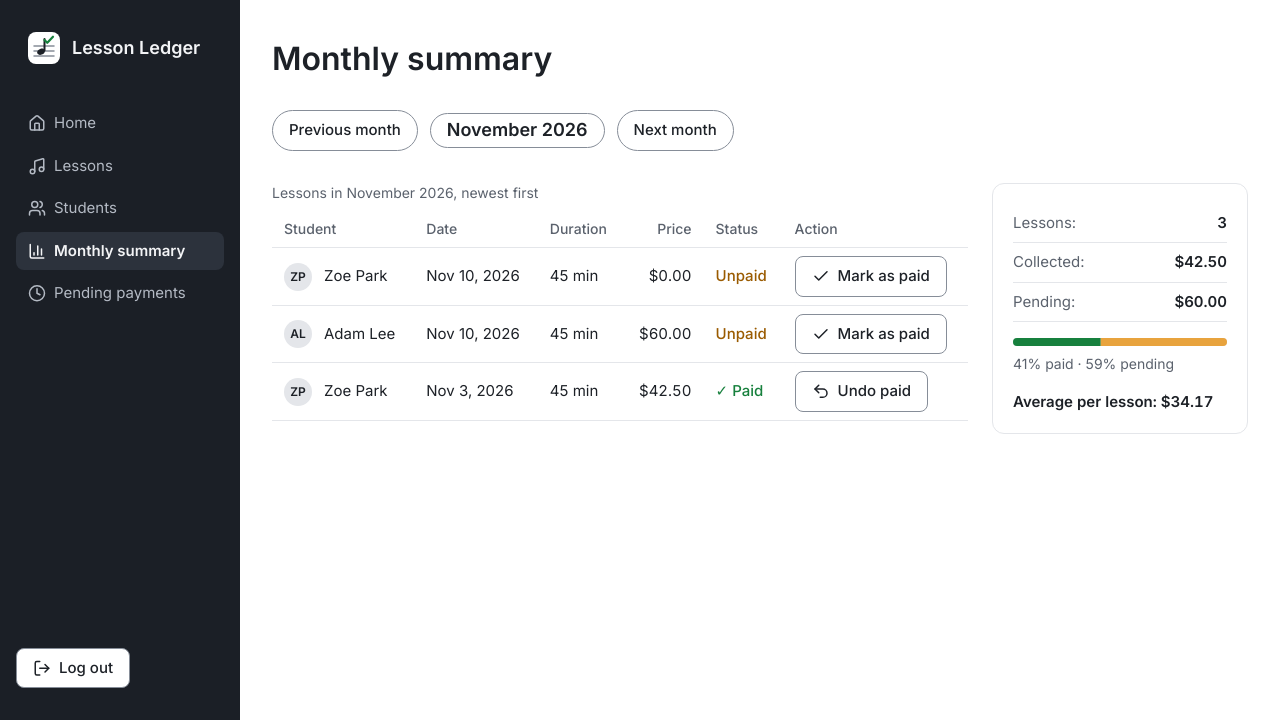
Test: F08 AC-4d the just-paid highlight › AC-4d Undo paid and a failed mark produce no highlight
Expected: the table is shown, [272,183,968,421]
Click the button with aria-label "Undo paid: Zoe Park, Nov 3, 2026".
click(861, 392)  # box [795,372,928,412]
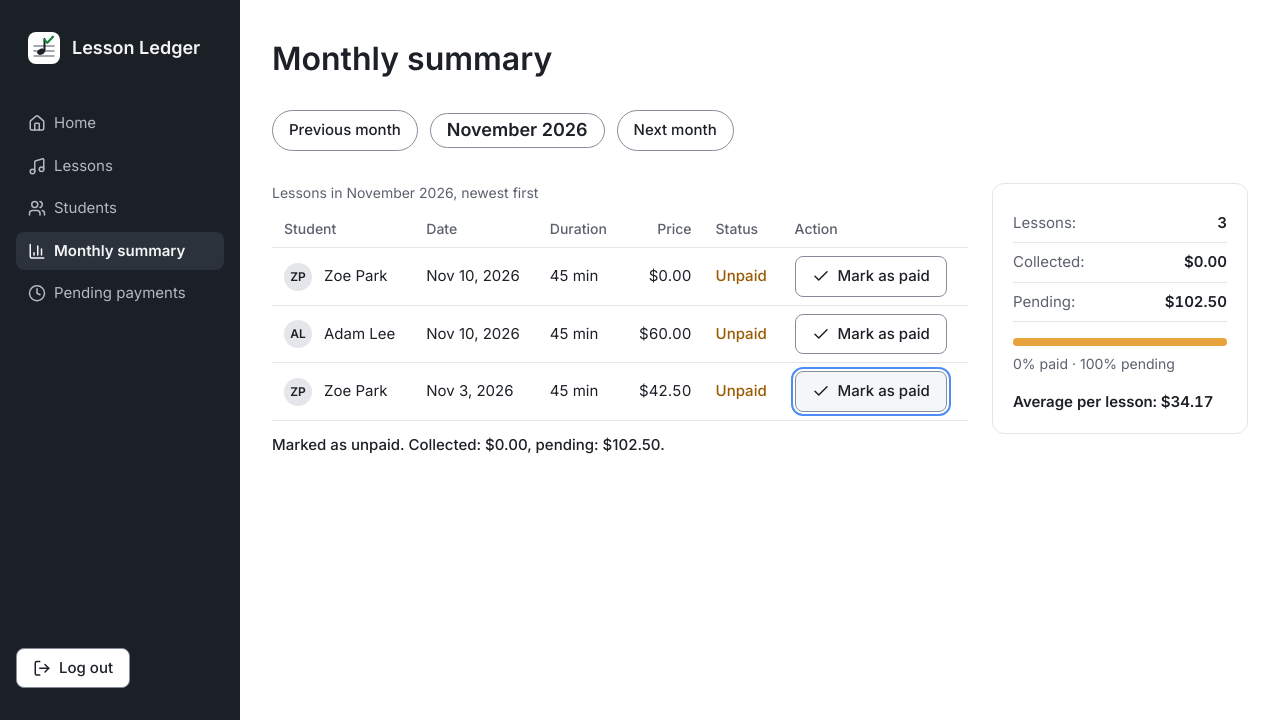
Result: the button with aria-label "Mark as paid: Zoe Park, Nov 3, 2026" is shown at [795,372,947,412]
Click the button with aria-label "Mark as paid: Zoe Park, Nov 10, 2026".
click(871, 277)  # box [795,256,947,297]
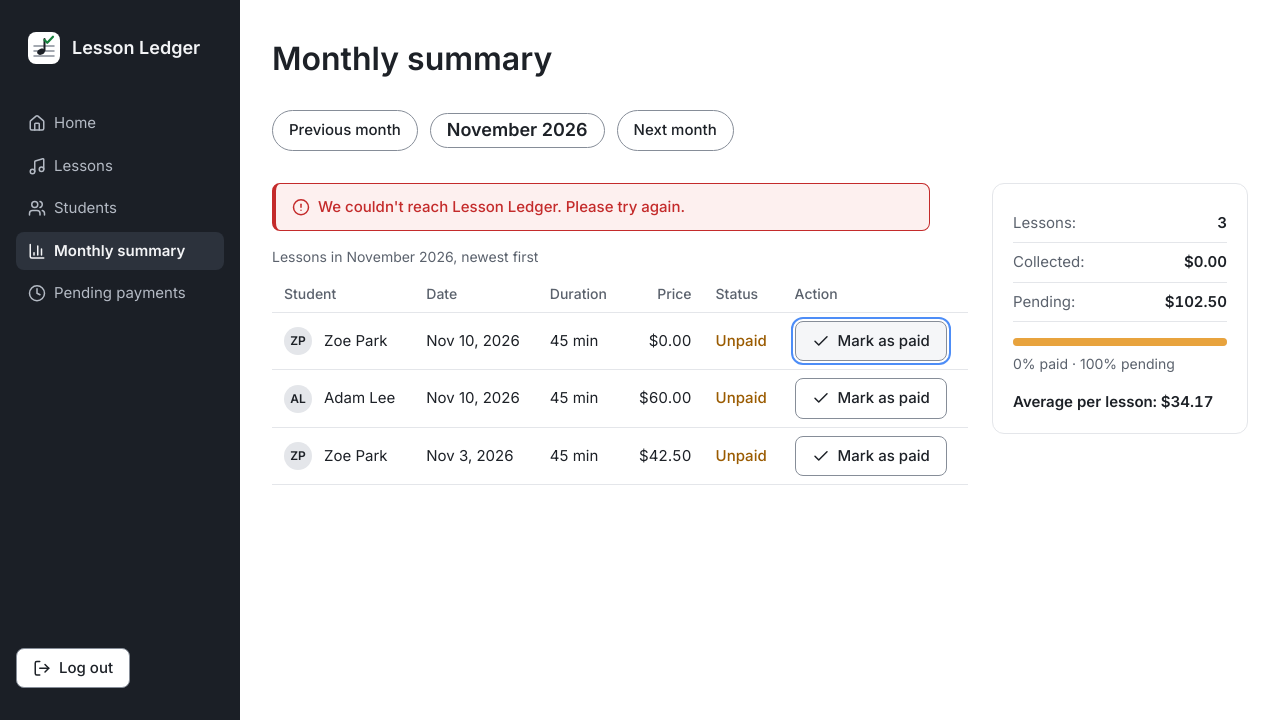
Result: the message "We couldn't reach Lesson Ledger. Please try again." is shown at [272,183,930,231]
